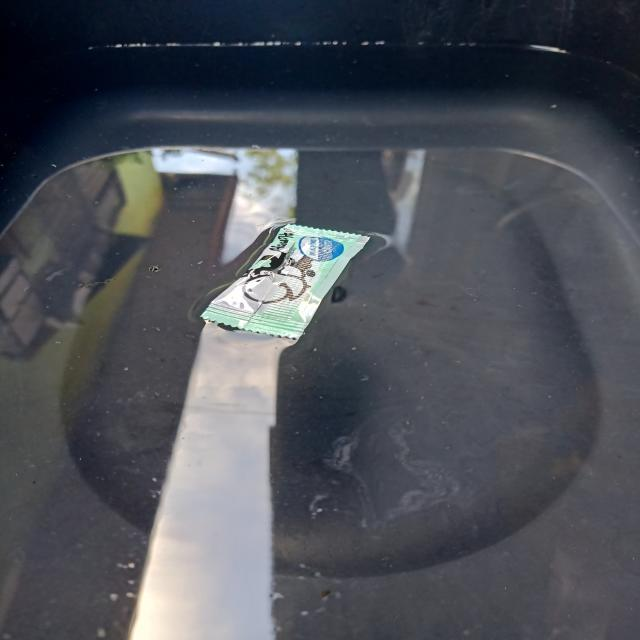Plastic Wrapper: (201, 223, 370, 341)
